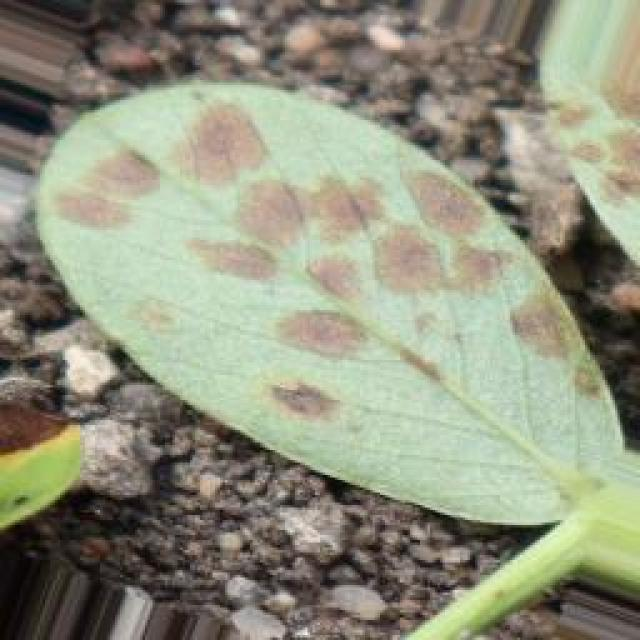Whitefly: (79, 111, 603, 440)
